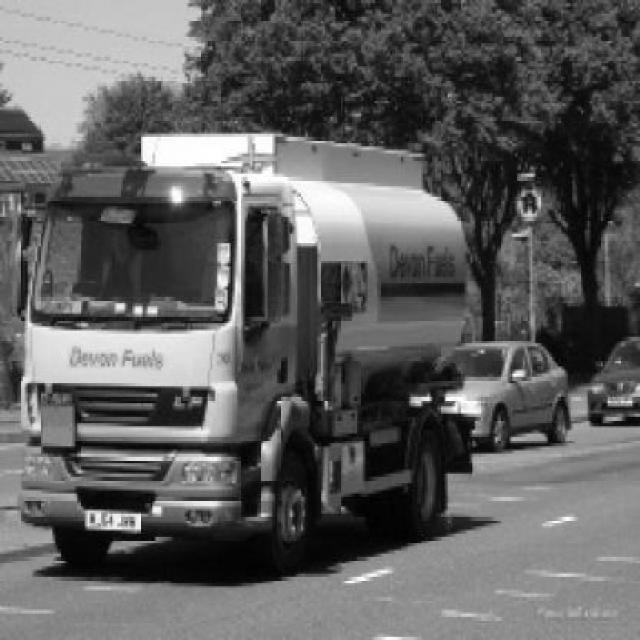Box Truck: (17, 134, 477, 578)
